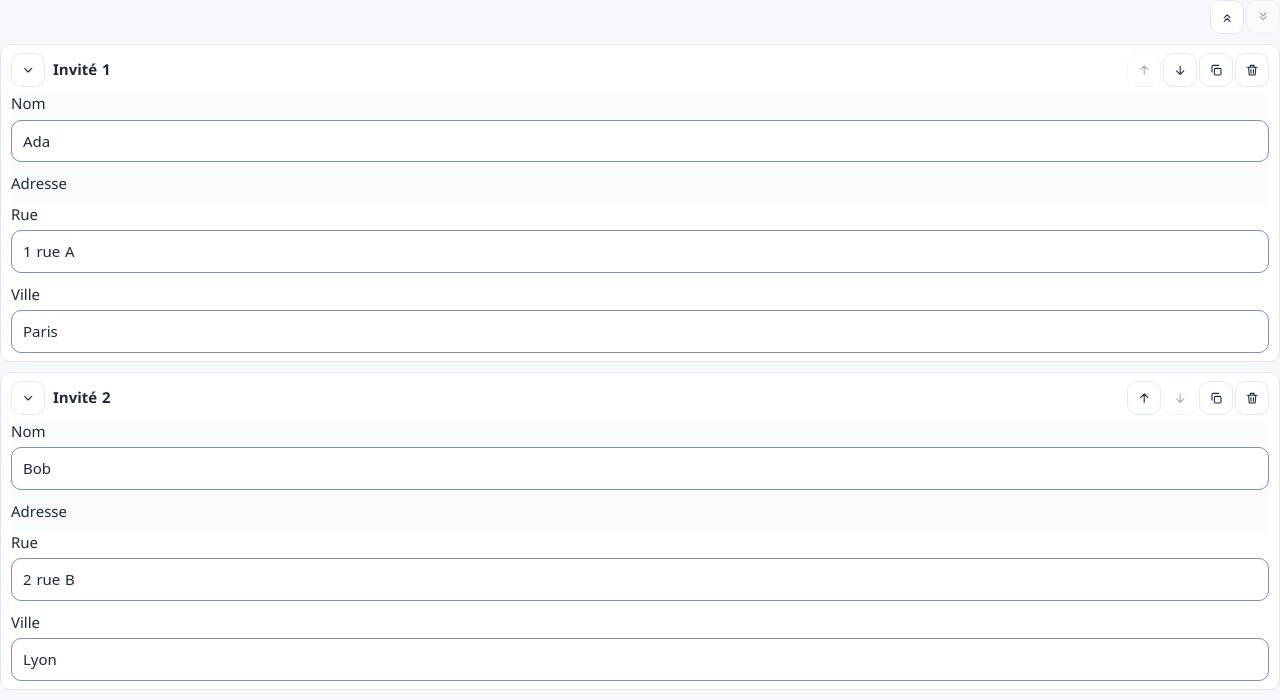
Lignes répétées : replier et déplier › tout replier, tout déplier ; l'autre ligne n'est pas touchée par une seule
Click the button named "Replier invité 2": (28, 398) x1=11 y1=381 x2=45 y2=415
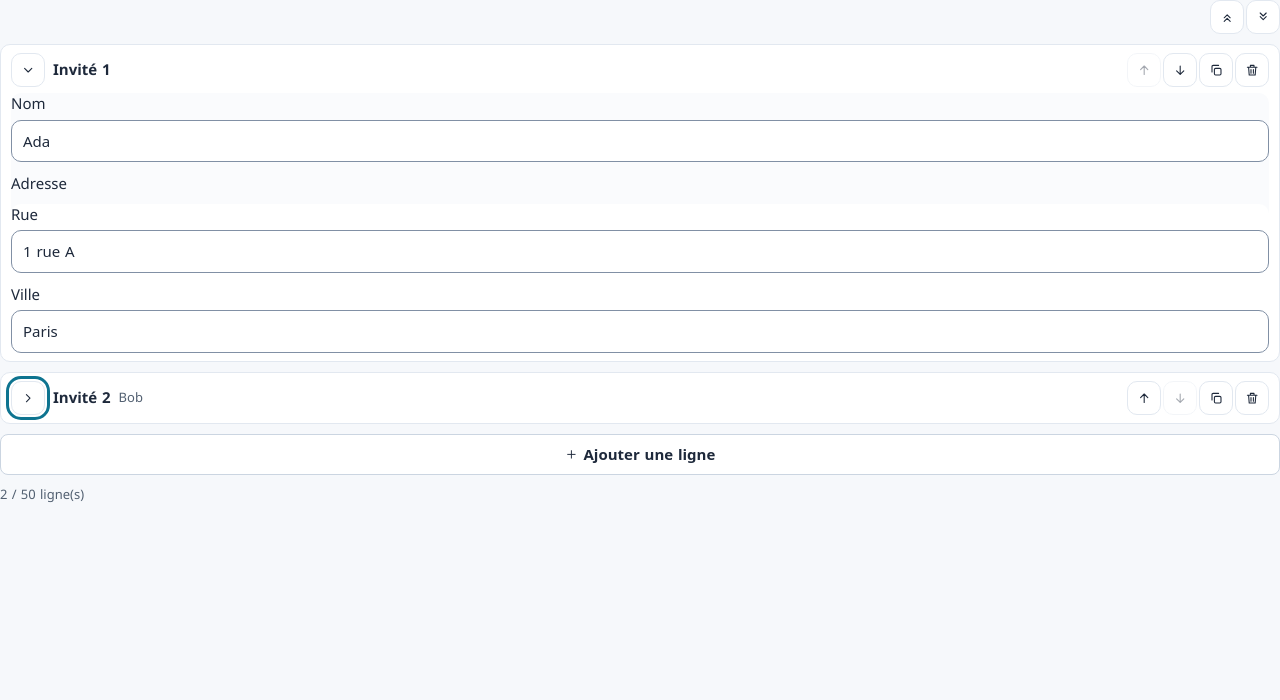
Check: the field labelled "Nom" holds "Ada", box x1=11 y1=120 x2=1269 y2=162
Click the button named "Tout replier": (1227, 17) x1=1210 y1=0 x2=1244 y2=34
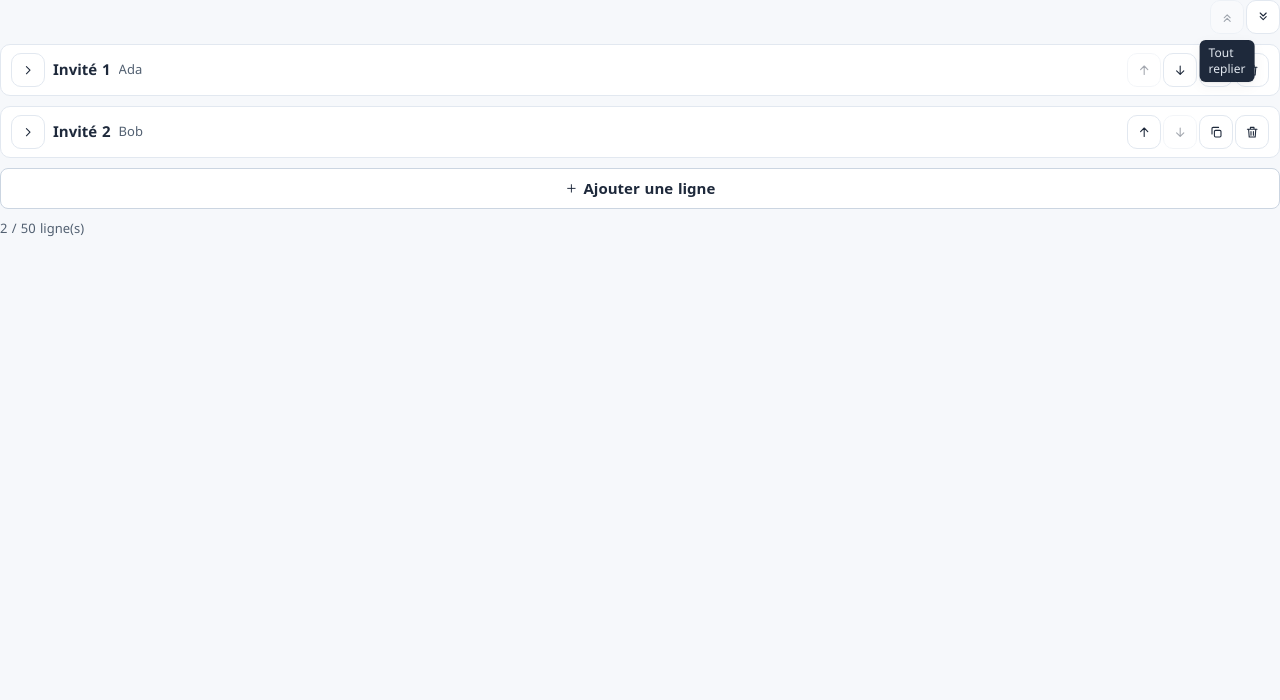
Click the button named "Tout déplier": (1263, 17) x1=1246 y1=0 x2=1279 y2=34
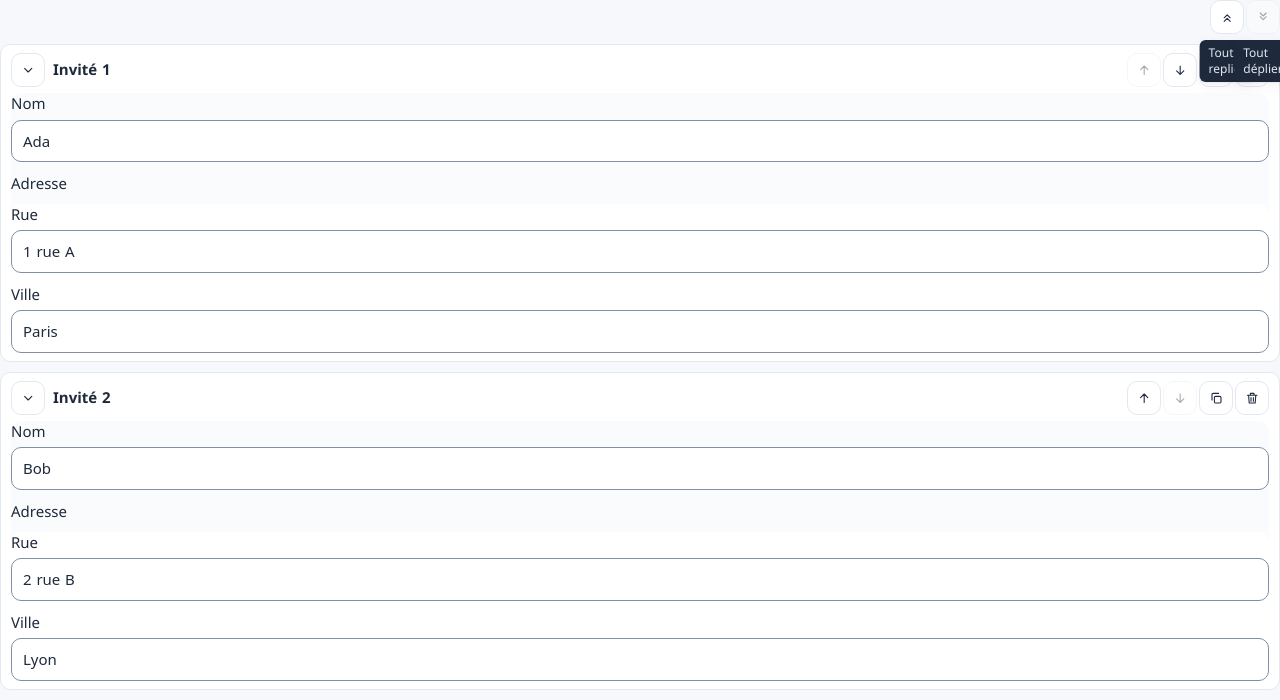
Check: the number of fields labelled "Nom" is 2, box x1=11 y1=120 x2=1269 y2=162; x1=11 y1=447 x2=1269 y2=490
